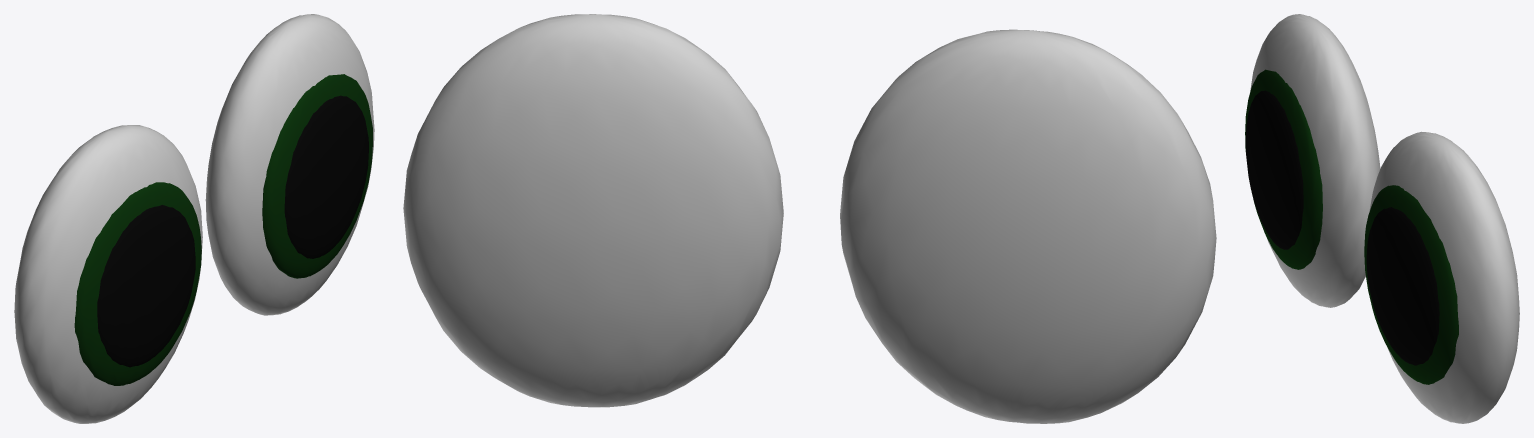
The picture shows the model from 3 angles, left to right: view 1: azimuth 30°, elevation 25°; view 2: azimuth 150°, elevation 25°; view 3: azimuth 270°, elevation 25°; orthographic projection. The views are drawn at different scales.
Visible parts, largest first — view 1: Sphere.002, Sphere_1.001, Sphere_2; view 2: Sphere.002; view 3: Sphere.002, Sphere_1.001, Sphere_2.
Boxes of the visible parts, left/top/right/bottom form: Sphere.002: left=14, top=14, right=374, bottom=423; Sphere_1.001: left=97, top=95, right=368, bottom=367; Sphere_2: left=74, top=74, right=372, bottom=385; Sphere.002: left=403, top=14, right=1216, bottom=423; Sphere.002: left=1250, top=14, right=1519, bottom=423; Sphere_1.001: left=1245, top=90, right=1439, bottom=365; Sphere_2: left=1245, top=69, right=1458, bottom=384.
Bounding box in the file's own units: 65.96 × 34.75 × 38.37.
